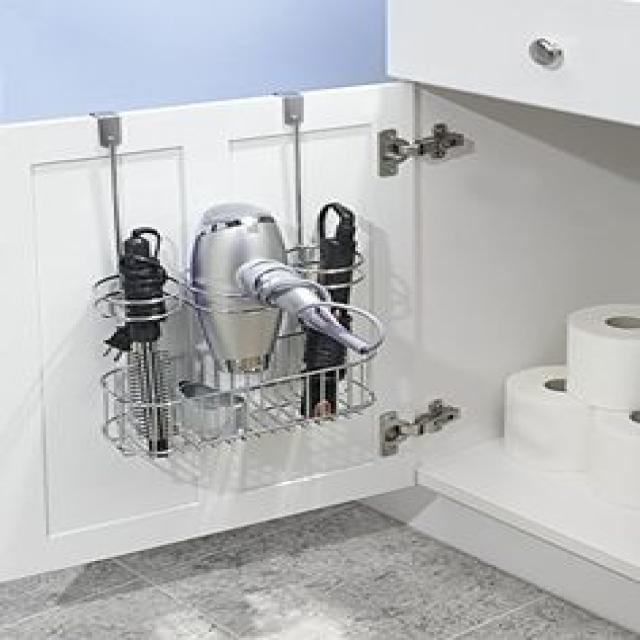dryer: (181, 189, 387, 379)
